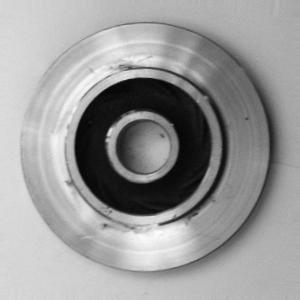crack: (96, 216, 187, 242), (94, 48, 161, 82), (59, 156, 86, 209)
scratch: (95, 114, 123, 168)
unpolished_casting: (17, 22, 270, 274)
